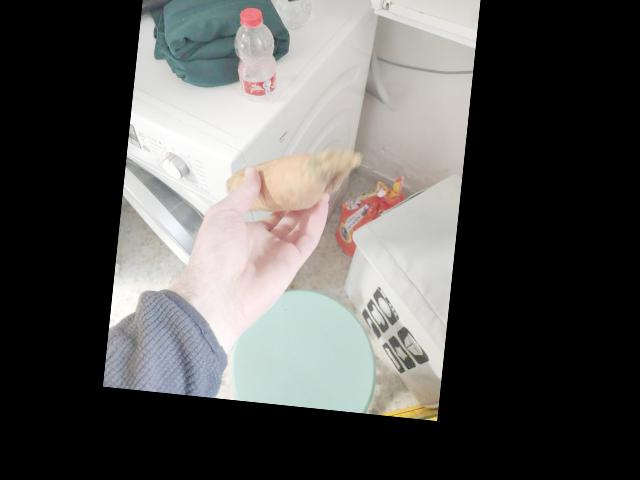sweet_potato: (239, 148, 326, 213)
